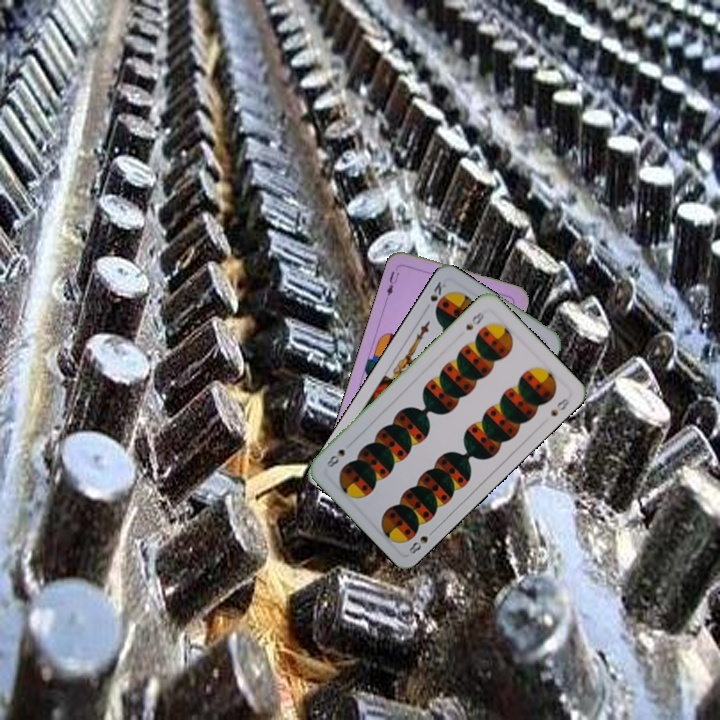EU: (382, 267, 402, 298)
S8: (405, 525, 439, 557), (462, 307, 488, 333)
SK: (426, 277, 450, 304)
